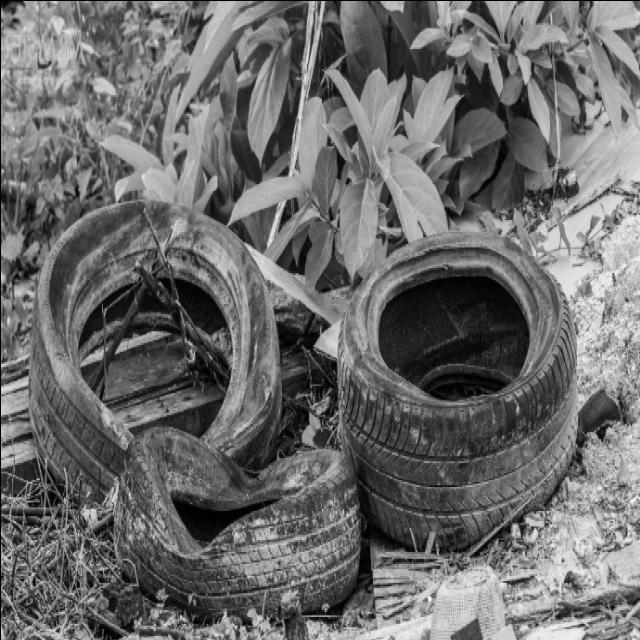Breeding Place: (26, 197, 275, 513), (340, 245, 564, 548), (119, 424, 360, 624)
